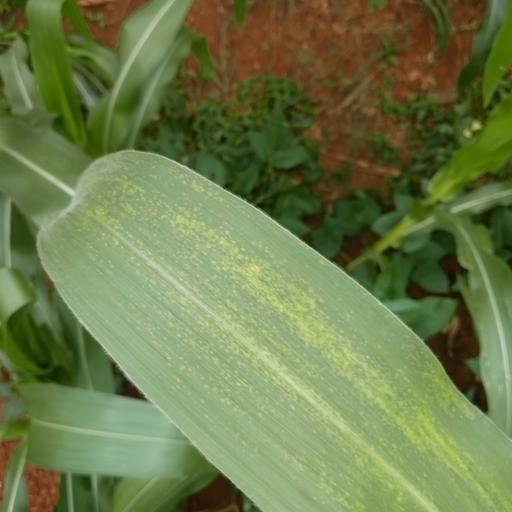Corn_Brown_Spots: (50, 149, 512, 512)
